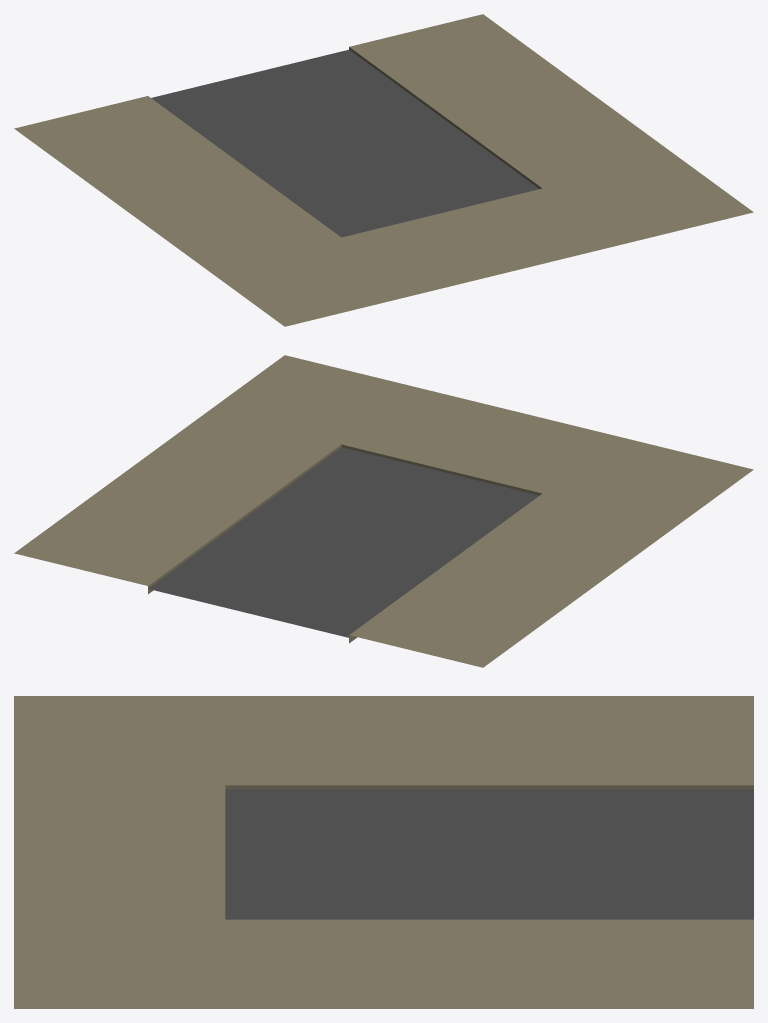
Rendered from OCDFinDeCalle.fbx.
3 renders of one model, top to bottom at view 1: azimuth 30°, elevation 25°; view 2: azimuth 150°, elevation 25°; view 3: azimuth 270°, elevation 25°, orthographic. The views are drawn at different scales.
Parts seen in each view (by area): view 1: Cube.007; view 2: Cube.007; view 3: Cube.007.
Part boxes in pixels (<box>): Cube.007: <box>14,14,753,326</box>; Cube.007: <box>14,355,753,667</box>; Cube.007: <box>14,696,753,1008</box>.
Bounding box in the file's own units: 3500 × 60 × 3500.
